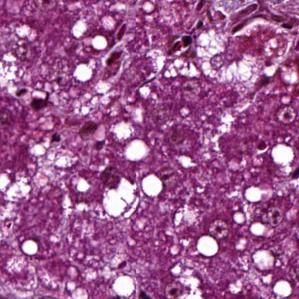ballooning: (194, 27, 262, 88)
